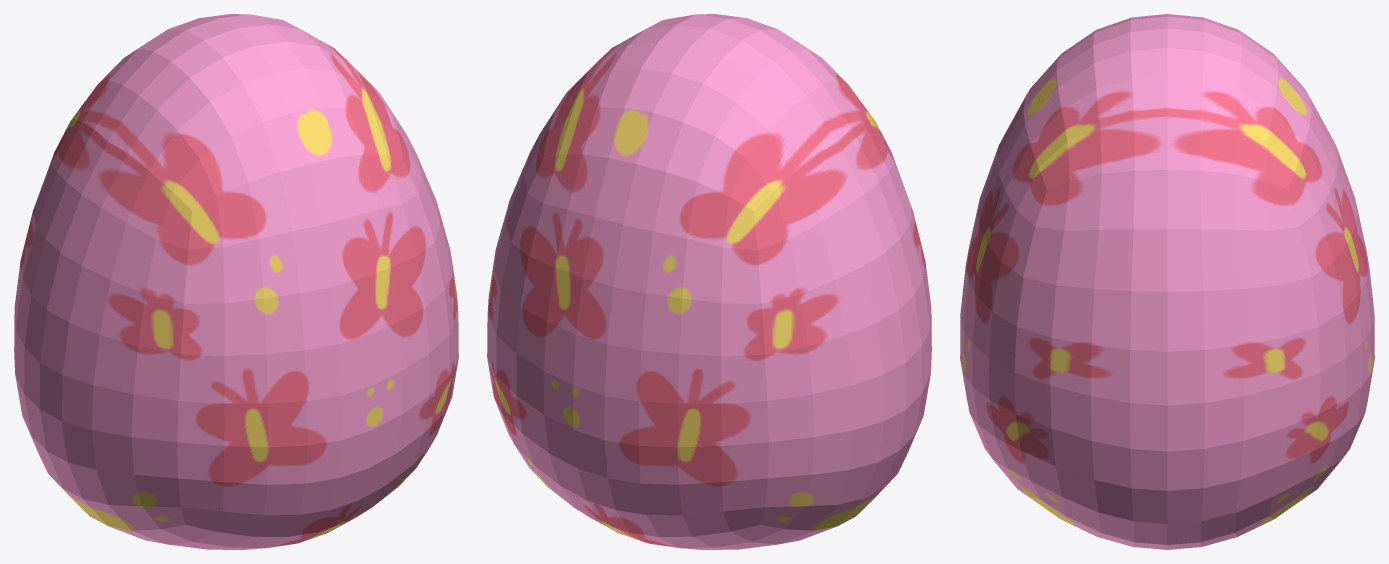
The model's file is Egg_Pink_butterfly.fbx.
3 views of the same model, side by side, from view 1: azimuth 30°, elevation 25°; view 2: azimuth 150°, elevation 25°; view 3: azimuth 270°, elevation 25° (orthographic).
Visible parts, largest first — view 1: Egg; view 2: Egg; view 3: Egg.
Part boxes in pixels (x1=…): Egg: x1=14, y1=14, x2=458, y2=549; Egg: x1=487, y1=14, x2=931, y2=549; Egg: x1=960, y1=14, x2=1374, y2=549.
Size of the model in its own units: 210 by 256 by 195.
1 material, 1 textured.
